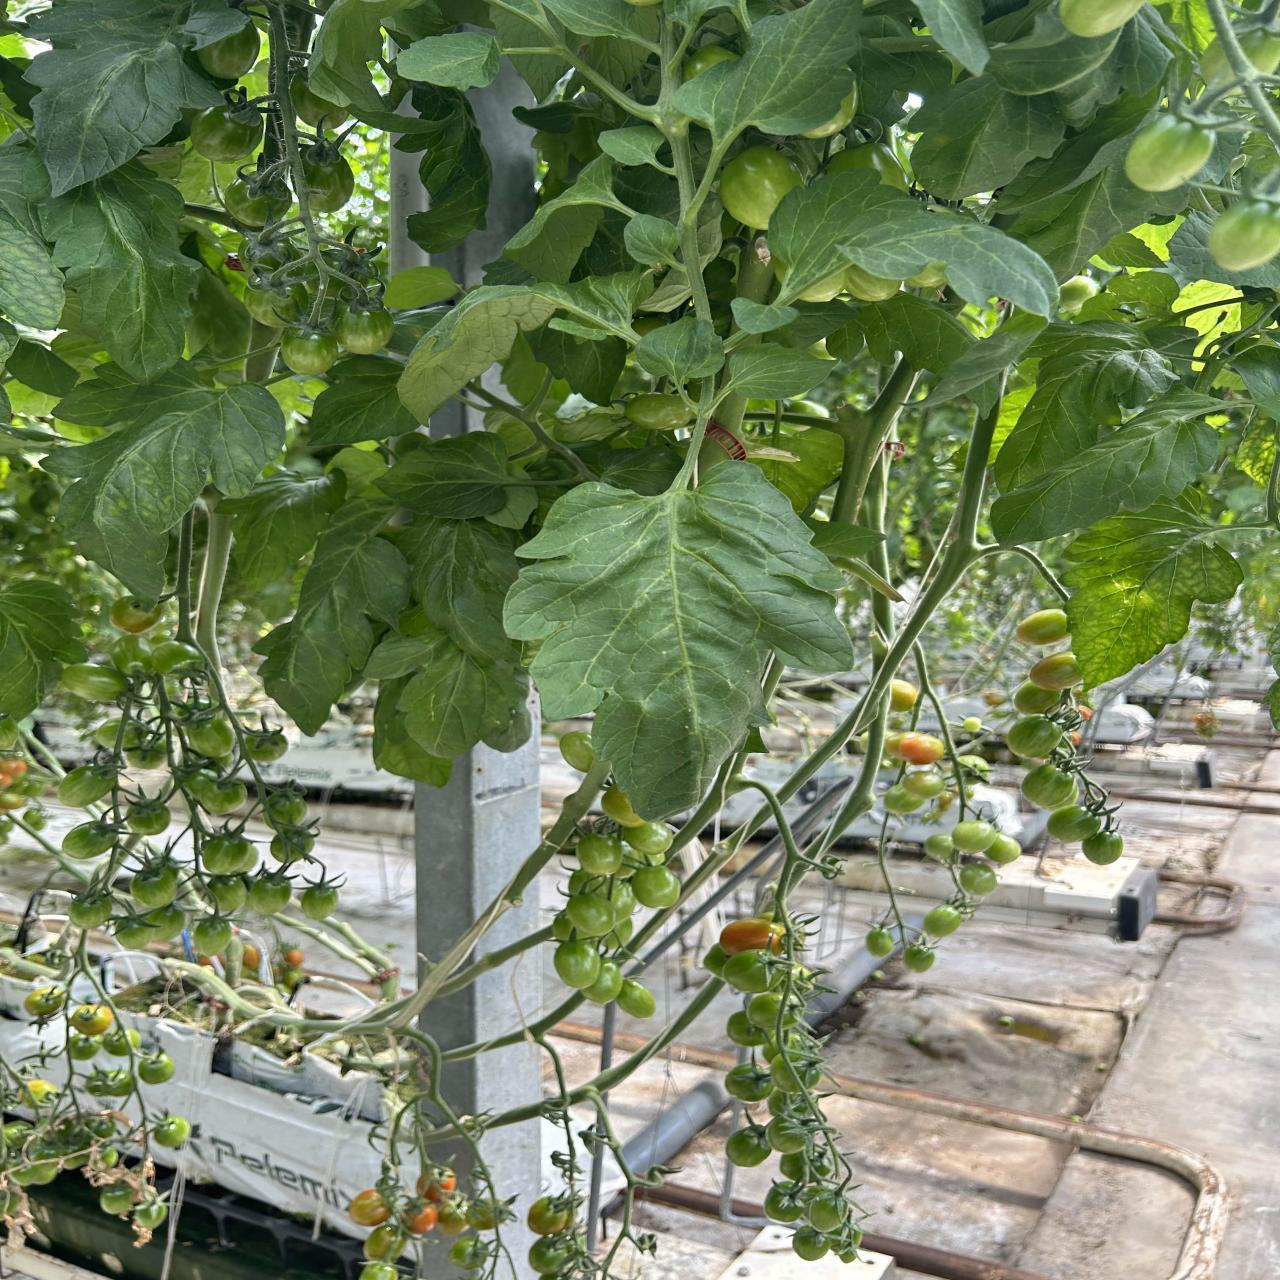Hoja: (504, 463, 852, 819), (25, 0, 248, 196), (32, 164, 198, 379), (992, 392, 1218, 543), (267, 501, 410, 730), (995, 325, 1179, 492), (674, 0, 863, 138), (982, 0, 1180, 123), (1001, 155, 1190, 281), (839, 211, 1058, 316), (397, 286, 554, 421), (767, 169, 920, 298), (908, 75, 1065, 199), (306, 0, 437, 134), (400, 518, 519, 665), (998, 102, 1143, 217), (503, 155, 633, 282), (395, 83, 490, 252), (526, 272, 642, 402), (232, 458, 345, 590), (377, 433, 537, 518), (825, 293, 975, 375), (927, 311, 1048, 402), (308, 355, 424, 448), (372, 675, 452, 787), (722, 343, 837, 400), (395, 30, 502, 90), (635, 316, 724, 383), (913, 0, 989, 75), (764, 300, 859, 348), (540, 0, 641, 42), (6, 340, 80, 396), (624, 213, 680, 267), (598, 125, 665, 169), (1192, 132, 1244, 184), (731, 297, 797, 333)
Hoja rugoso: (42, 363, 285, 599), (1061, 489, 1244, 689), (366, 606, 527, 760), (0, 212, 64, 329)
Pedunculo: (573, 0, 748, 322), (879, 401, 1000, 680), (778, 360, 914, 524), (261, 0, 326, 300), (196, 497, 232, 672), (488, 0, 579, 66)
Tomate: (1124, 114, 1217, 191), (720, 147, 803, 230), (1207, 198, 1280, 271), (625, 394, 692, 429), (894, 770, 944, 803), (898, 733, 944, 765), (951, 821, 995, 853), (922, 906, 961, 938), (884, 785, 925, 815), (985, 832, 1021, 865), (960, 863, 996, 894), (890, 680, 919, 712), (924, 835, 954, 862)
Tomate Rugoso: (224, 170, 292, 230), (190, 107, 260, 162), (243, 281, 313, 328), (770, 1027, 819, 1092), (116, 906, 184, 948), (280, 331, 340, 375), (306, 157, 354, 212), (188, 771, 247, 815), (336, 308, 393, 354), (61, 662, 125, 702), (1022, 764, 1077, 809), (1006, 716, 1062, 758), (203, 832, 258, 874), (57, 767, 114, 808), (553, 940, 600, 988), (61, 821, 115, 859), (185, 715, 234, 757), (631, 866, 680, 908), (724, 1060, 774, 1102), (1029, 652, 1082, 690), (130, 866, 177, 910), (1047, 805, 1101, 843), (567, 894, 614, 937), (1016, 608, 1069, 645), (720, 919, 771, 955), (111, 598, 162, 634), (726, 1126, 770, 1167), (577, 835, 621, 874), (622, 822, 674, 856), (110, 634, 152, 675), (724, 952, 767, 993), (764, 1180, 805, 1223), (247, 876, 291, 915), (806, 1192, 850, 1232), (601, 788, 644, 828), (263, 791, 306, 830), (125, 798, 170, 836), (147, 641, 199, 673), (584, 962, 624, 1003), (1013, 680, 1061, 714), (618, 978, 655, 1019), (193, 915, 231, 955), (207, 876, 247, 912), (1082, 831, 1123, 866), (300, 885, 339, 920), (83, 716, 124, 749), (767, 1121, 808, 1153), (246, 730, 288, 762), (727, 1010, 763, 1047), (747, 992, 781, 1029), (69, 898, 110, 928), (610, 877, 636, 922), (792, 1227, 828, 1261), (127, 744, 164, 769), (904, 946, 935, 973), (704, 944, 731, 975), (866, 930, 894, 958), (123, 717, 142, 749), (613, 918, 633, 946)
